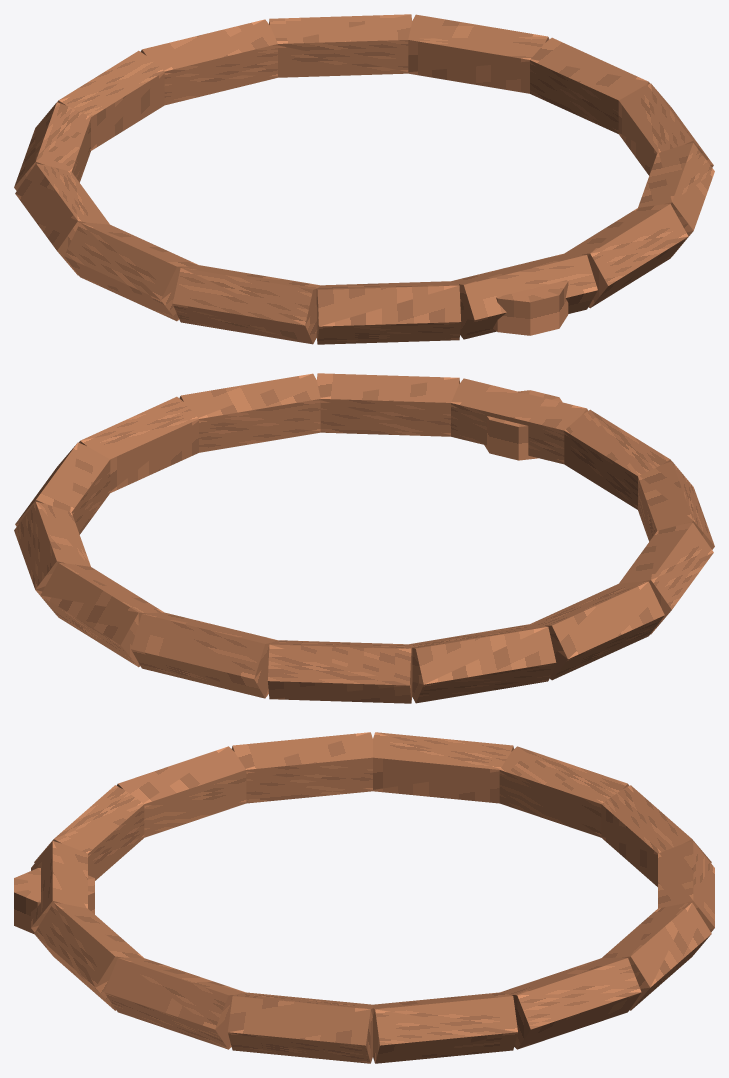
The model's file is copper_bracelet.glb.
The picture shows the model from 3 angles, top to bottom: view 1: azimuth 30°, elevation 25°; view 2: azimuth 150°, elevation 25°; view 3: azimuth 270°, elevation 25°; orthographic projection.
Visible parts, largest first — view 1: block_bracelet band4, block_bracelet band5, block_bracelet band11, block_bracelet band12, block_bracelet band10, block_bracelet band6, block_bracelet band13, block_bracelet band2, block_bracelet band3, block_bracelet band9, block_bracelet band7, block_bracelet band1 (+3 smaller); view 2: block_bracelet band9, block_bracelet band8, block_bracelet band10, block_bracelet band2, block_bracelet band1, block_bracelet band7, block_bracelet band0, block_bracelet band11, block_bracelet band3, block_bracelet band4, block_bracelet band6, block_bracelet band12 (+3 smaller); view 3: block_bracelet band0, block_bracelet band13, block_bracelet band6, block_bracelet band7, block_bracelet band1, block_bracelet band12, block_bracelet band8, block_bracelet band5, block_bracelet band11, block_bracelet band2, block_bracelet band9, block_bracelet band4 (+3 smaller).
Boxes of the visible parts, x1=… form: block_bracelet band4: x1=316, y1=281, x2=461, y2=344; block_bracelet band5: x1=172, y1=265, x2=320, y2=344; block_bracelet band11: x1=269, y1=14, x2=411, y2=77; block_bracelet band12: x1=408, y1=14, x2=549, y2=93; block_bracelet band10: x1=140, y1=19, x2=277, y2=105; block_bracelet band6: x1=64, y1=222, x2=198, y2=321; block_bracelet band13: x1=530, y1=37, x2=649, y2=133; block_bracelet band2: x1=564, y1=204, x2=688, y2=308; block_bracelet band3: x1=451, y1=253, x2=597, y2=339; block_bracelet band9: x1=57, y1=50, x2=164, y2=150; block_bracelet band7: x1=15, y1=163, x2=109, y2=275; block_bracelet band1: x1=638, y1=143, x2=714, y2=255; block_bracelet band9: x1=267, y1=640, x2=412, y2=703; block_bracelet band8: x1=408, y1=624, x2=556, y2=703; block_bracelet band10: x1=131, y1=612, x2=277, y2=698; block_bracelet band2: x1=317, y1=373, x2=459, y2=436; block_bracelet band1: x1=179, y1=373, x2=320, y2=452; block_bracelet band7: x1=530, y1=581, x2=664, y2=680; block_bracelet band0: x1=79, y1=396, x2=198, y2=492; block_bracelet band11: x1=40, y1=563, x2=164, y2=667; block_bracelet band3: x1=451, y1=378, x2=588, y2=464; block_bracelet band4: x1=564, y1=409, x2=671, y2=509; block_bracelet band6: x1=619, y1=522, x2=713, y2=634; block_bracelet band12: x1=14, y1=502, x2=90, y2=614; block_bracelet band0: x1=227, y1=992, x2=372, y2=1063; block_bracelet band13: x1=373, y1=992, x2=517, y2=1063; block_bracelet band6: x1=231, y1=732, x2=372, y2=803; block_bracelet band7: x1=373, y1=732, x2=513, y2=803; block_bracelet band1: x1=104, y1=957, x2=245, y2=1049; block_bracelet band12: x1=500, y1=957, x2=641, y2=1049; block_bracelet band8: x1=499, y1=746, x2=629, y2=837; block_bracelet band5: x1=116, y1=746, x2=246, y2=837; block_bracelet band11: x1=601, y1=902, x2=711, y2=1010; block_bracelet band2: x1=34, y1=902, x2=143, y2=1010; block_bracelet band9: x1=601, y1=785, x2=711, y2=886; block_bracelet band4: x1=34, y1=785, x2=144, y2=880.
Size of the model in its own units: 0.0429 by 0.00369 by 0.0431.
1 material, 1 textured.
